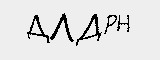Д: (74, 13, 102, 44), (25, 14, 49, 41)
Л: (48, 10, 73, 43)
Н: (115, 12, 135, 33)
Р: (102, 12, 118, 35)
